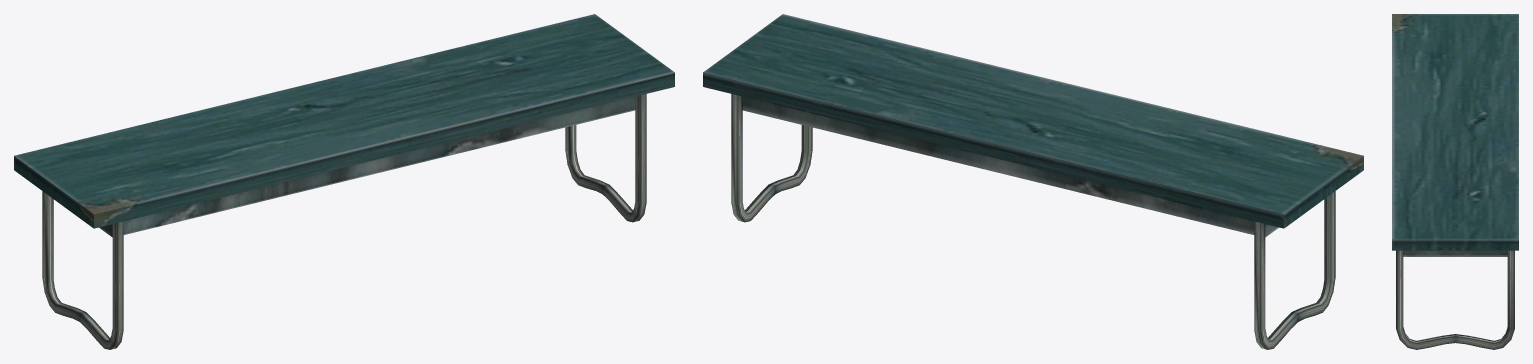
Rendered from machine_prison_bench.fbx.
3 views of the same model, side by side, from view 1: azimuth 30°, elevation 25°; view 2: azimuth 150°, elevation 25°; view 3: azimuth 270°, elevation 25° (orthographic). The views are drawn at different scales.
Visible parts, largest first — view 1: mesh_0; view 2: mesh_0; view 3: mesh_0.
Boxes of the visible parts, x1,y1,x2,y2 form: mesh_0: (14,14,674,349); mesh_0: (703,14,1363,349); mesh_0: (1392,14,1518,349).
Size of the model in its own units: 200 by 49.99 by 47.62.
1 material, 1 textured.
